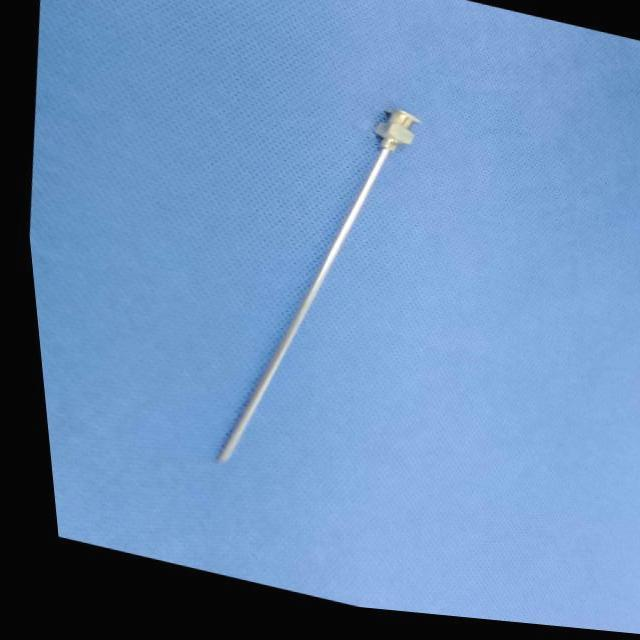Pathological: (25, 0, 640, 637)
Sharps: (215, 108, 422, 464)
